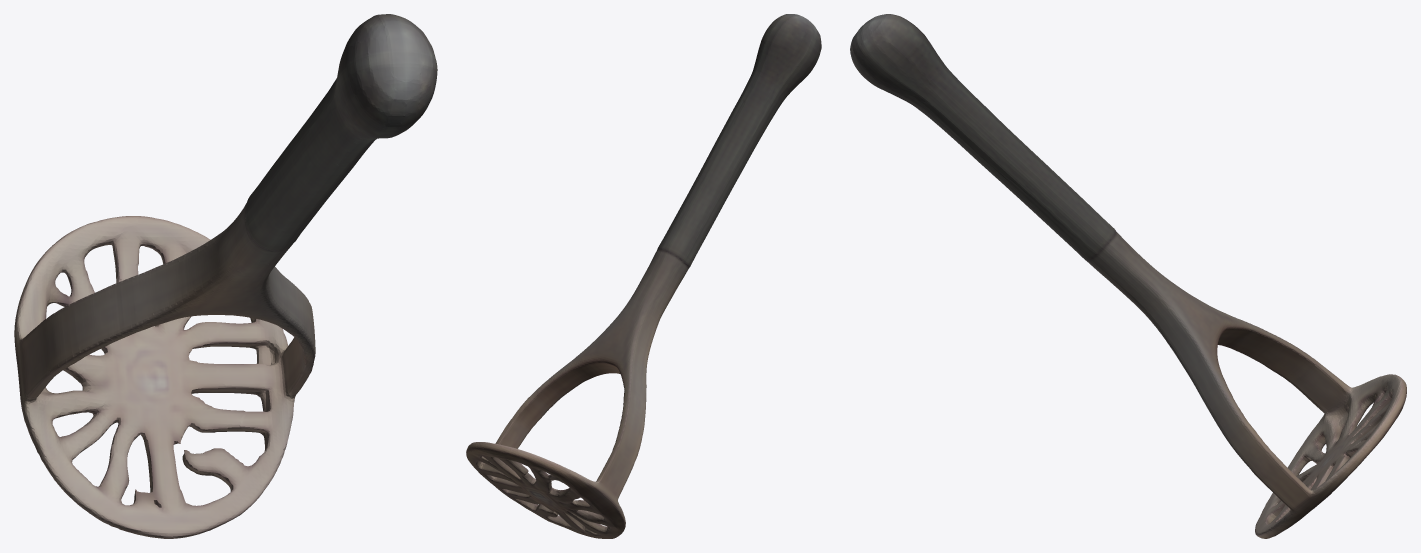
The model's file is frame_0074_source_000074_object.glb.
The picture shows the model from 3 angles, left to right: view 1: azimuth 30°, elevation 25°; view 2: azimuth 150°, elevation 25°; view 3: azimuth 270°, elevation 25°; orthographic projection. The views are drawn at different scales.
Parts seen in each view (by area): view 1: world; view 2: world; view 3: world.
Part boxes in pixels (bbox=[...]): world: bbox=[14, 14, 437, 538]; world: bbox=[466, 14, 821, 538]; world: bbox=[850, 14, 1406, 538].
Bounding box in the file's own units: 0.0787 × 0.2063 × 0.2151.
